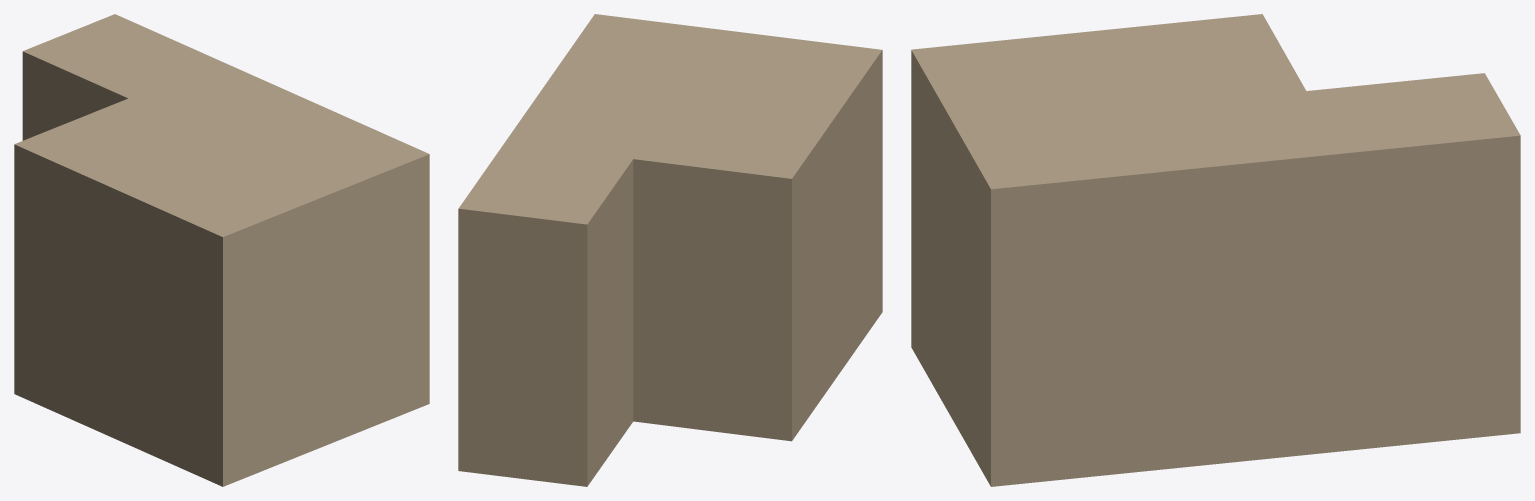
The model's file is bld_100469603.dae.
3 views of the same model, side by side, from view 1: azimuth 30°, elevation 25°; view 2: azimuth 150°, elevation 25°; view 3: azimuth 270°, elevation 25° (orthographic). The views are drawn at different scales.
Parts seen in each view (by area): view 1: bld_100469603; view 2: bld_100469603; view 3: bld_100469603.
Part boxes in pixels (left/top/right/bottom): bld_100469603: left=14, top=14, right=429, bottom=486; bld_100469603: left=458, top=14, right=882, bottom=486; bld_100469603: left=911, top=14, right=1520, bottom=486.
Bounding box in the file's own units: 8.85 × 12.99 × 7.
